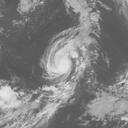cyclone: (39, 23, 102, 86)
